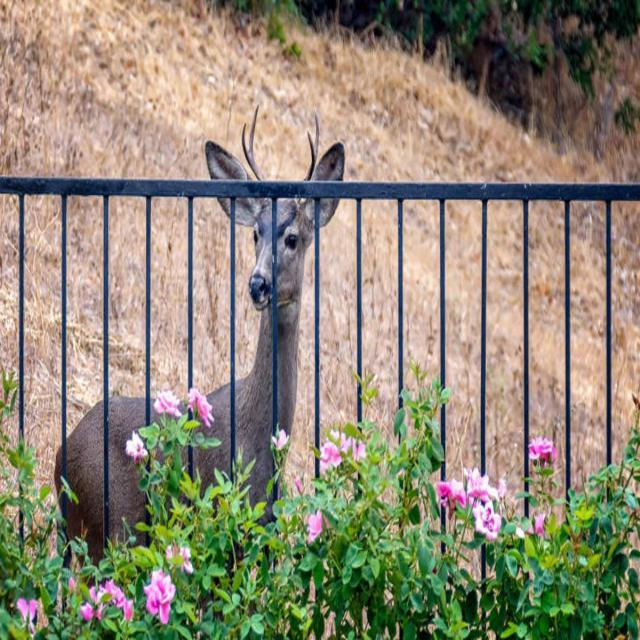deer: (55, 106, 348, 560)
